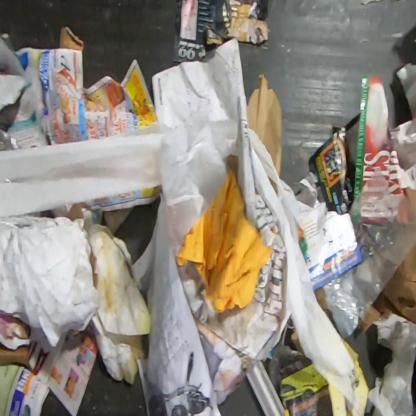cardboard: (357, 243, 415, 333), (246, 73, 283, 179), (342, 338, 370, 416), (325, 378, 348, 415), (58, 25, 84, 53), (0, 347, 29, 366), (404, 186, 416, 211)
soft_plastic: (321, 166, 416, 340), (156, 108, 228, 258)
